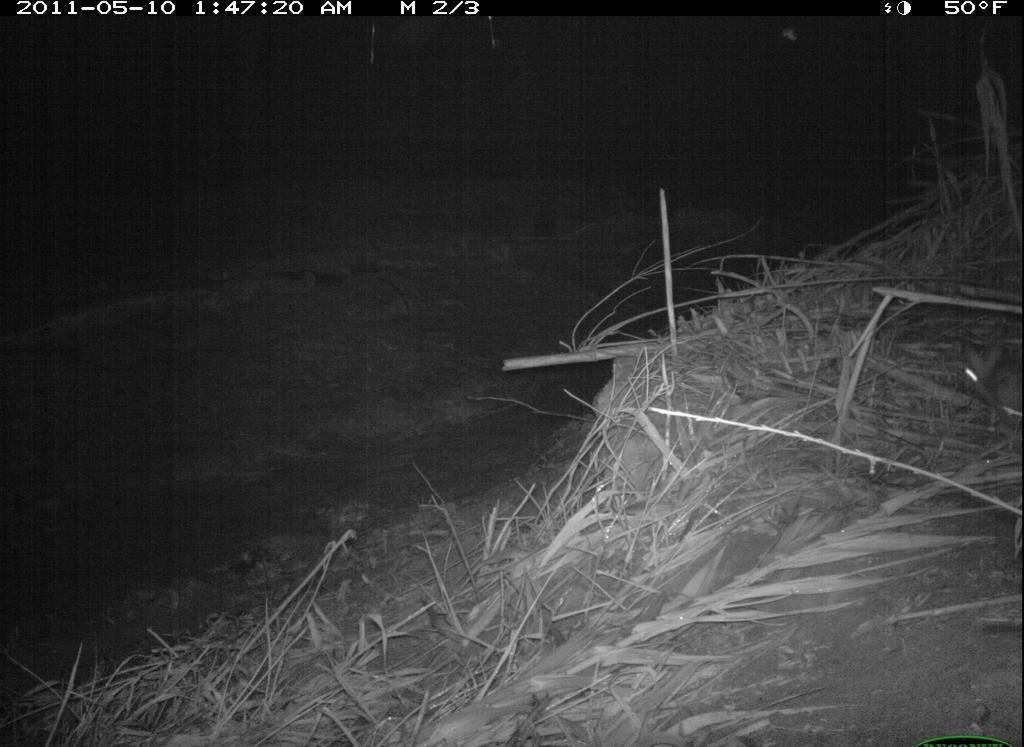rabbit: (946, 318, 1023, 445)
